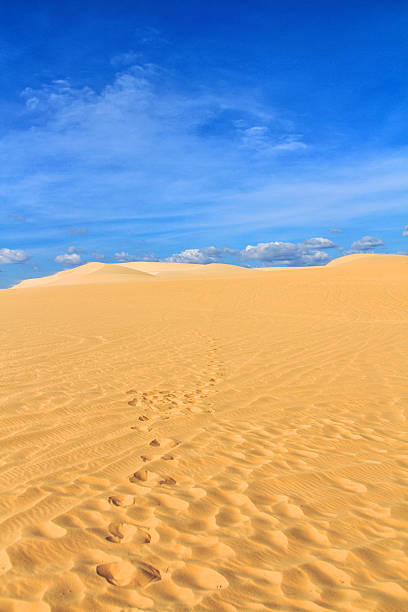human_foot_print: (126, 338, 223, 418), (96, 560, 160, 586), (106, 520, 150, 542)
